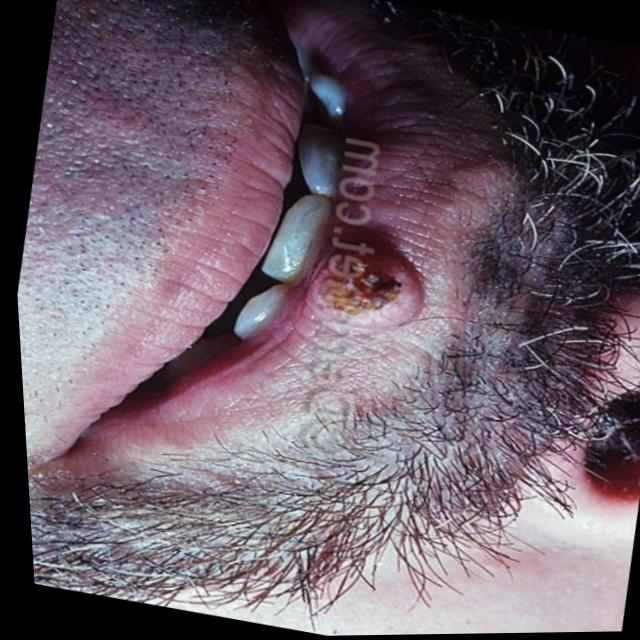Eczema: (305, 244, 427, 329)
